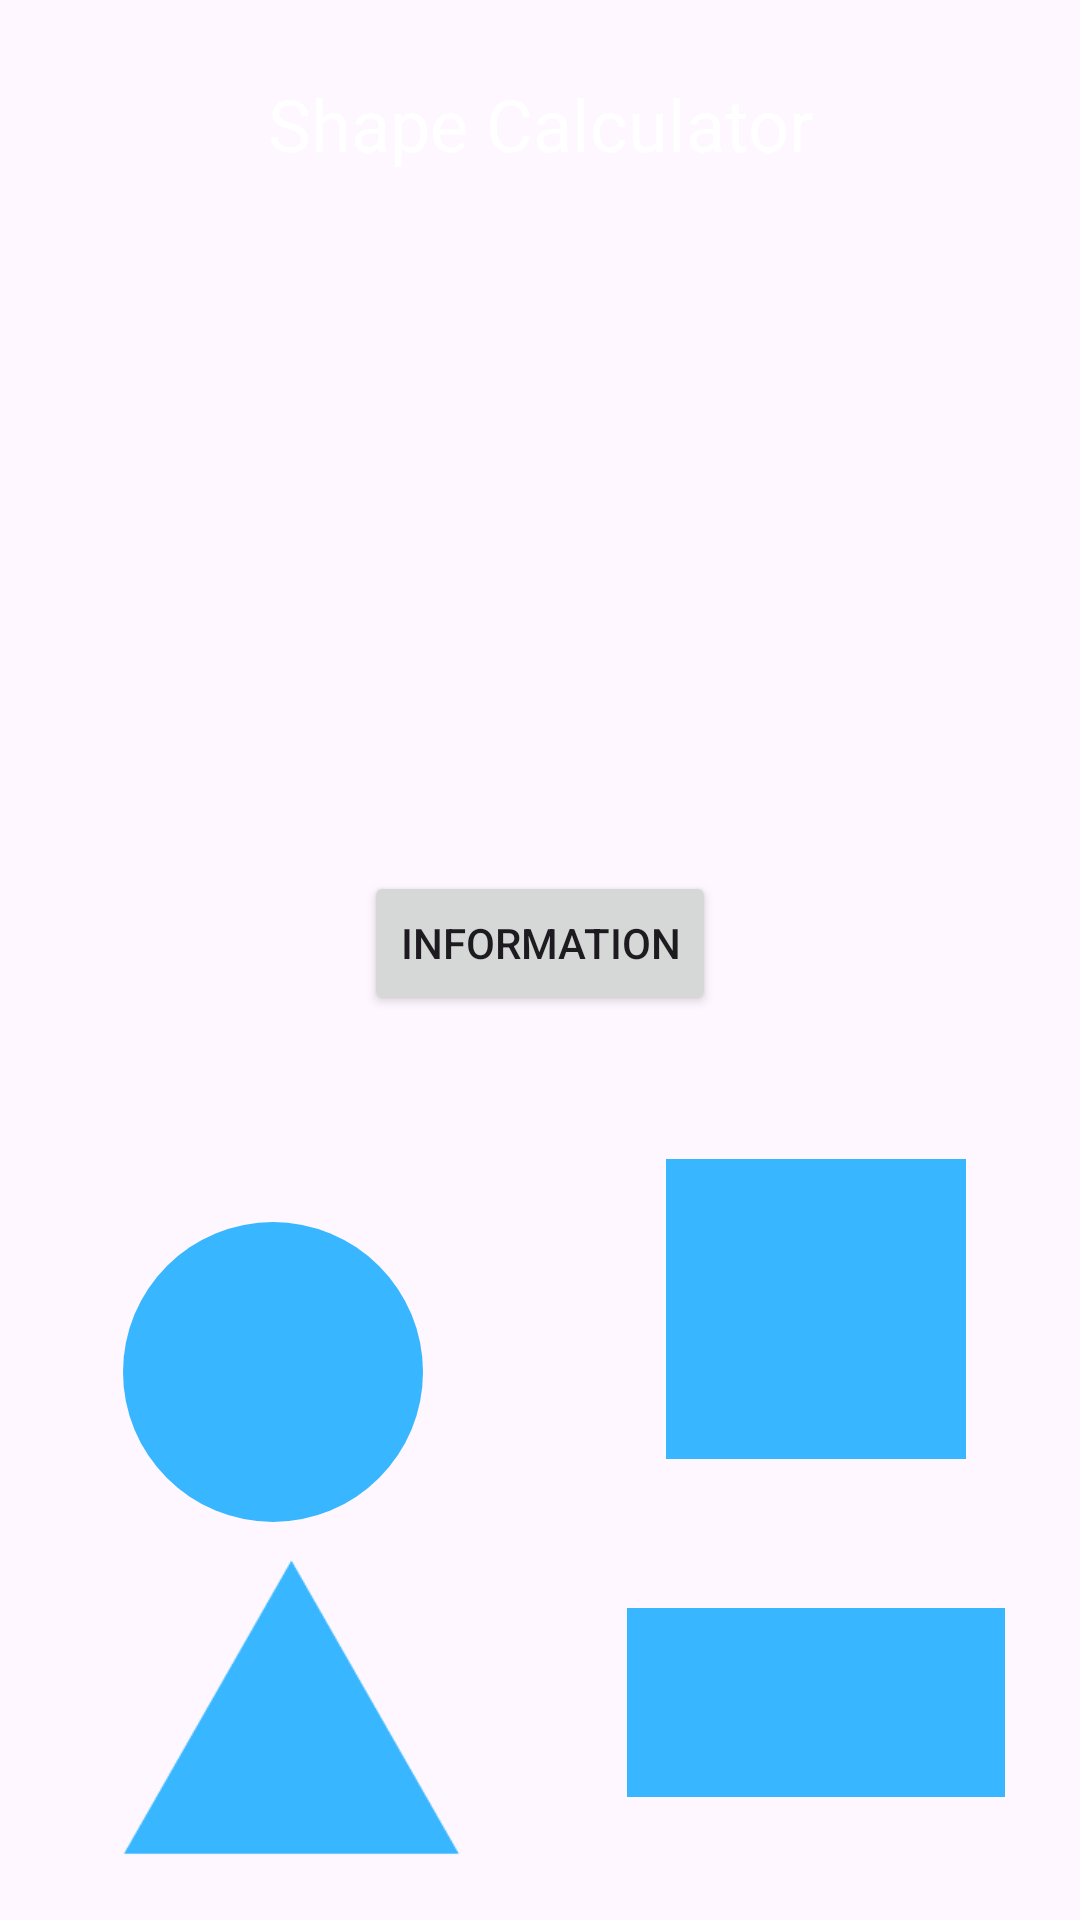

Screen size 1080*1920. Icon name, then its box in pixels as (x1, y1, x2, y2):
circle: (123, 1222, 423, 1522)
trianglebutton: (123, 1560, 459, 1854)
